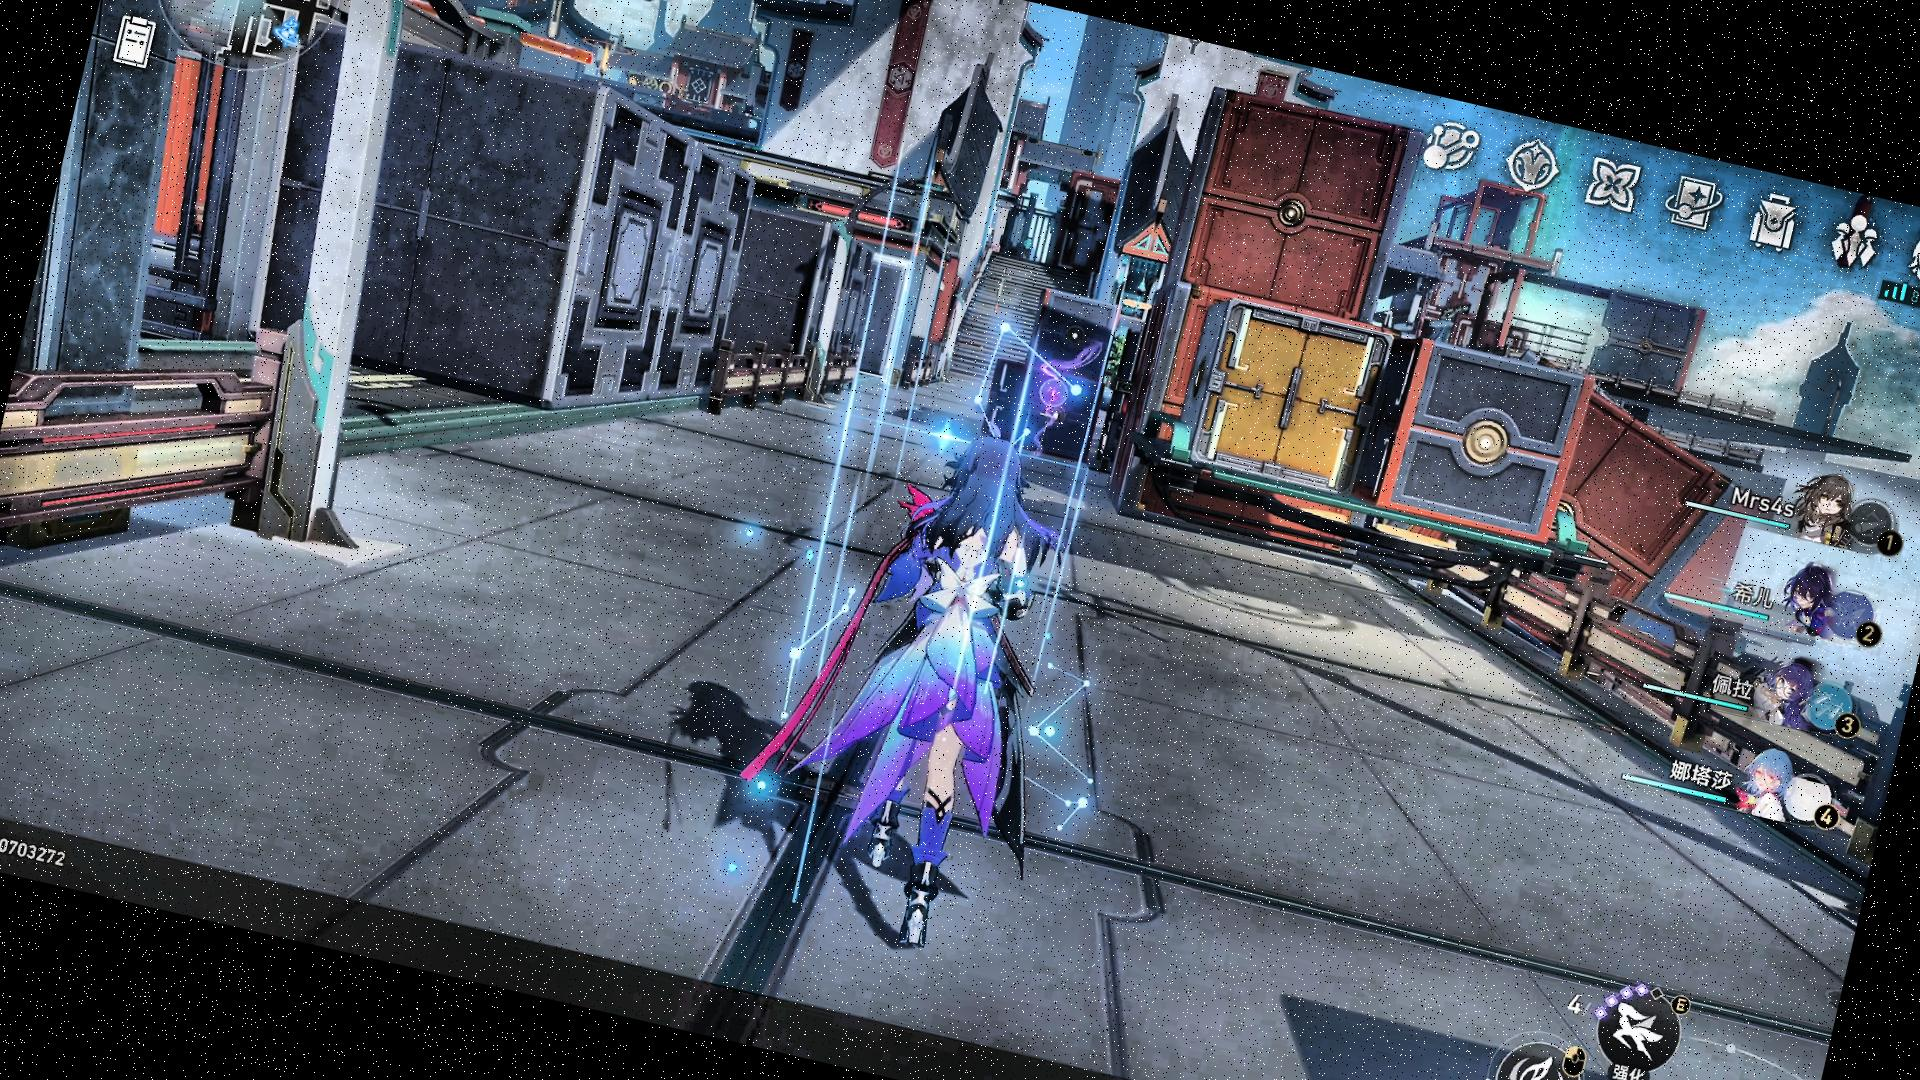Self: (737, 385, 1124, 965)
